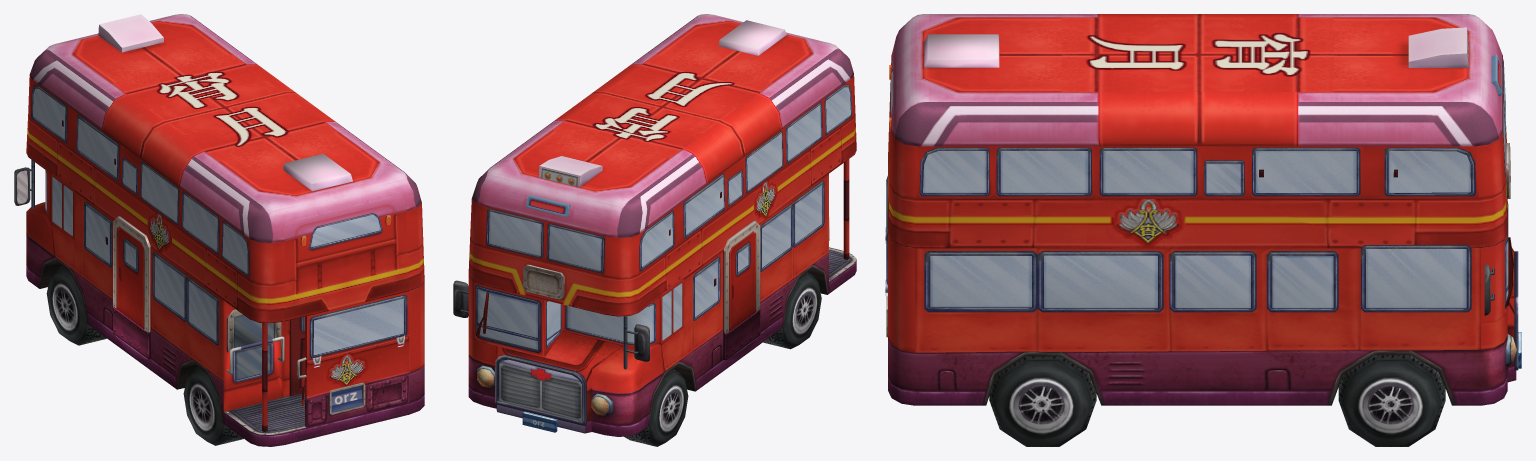
The model's file is a_SWAbusr02.glb.
3 views of the same model, side by side, from view 1: azimuth 30°, elevation 25°; view 2: azimuth 150°, elevation 25°; view 3: azimuth 270°, elevation 25° (orthographic). The views are drawn at different scales.
Parts seen in each view (by area): view 1: a_SWAbusr02; view 2: a_SWAbusr02; view 3: a_SWAbusr02.
Boxes of the visible parts, x1,y1,x2,y2 form: a_SWAbusr02: (14,14,424,446); a_SWAbusr02: (453,14,856,446); a_SWAbusr02: (885,14,1521,446).
Size of the model in its own units: 2.95 by 3.96 by 6.36.
Materials: 4 (4 with a texture image).
